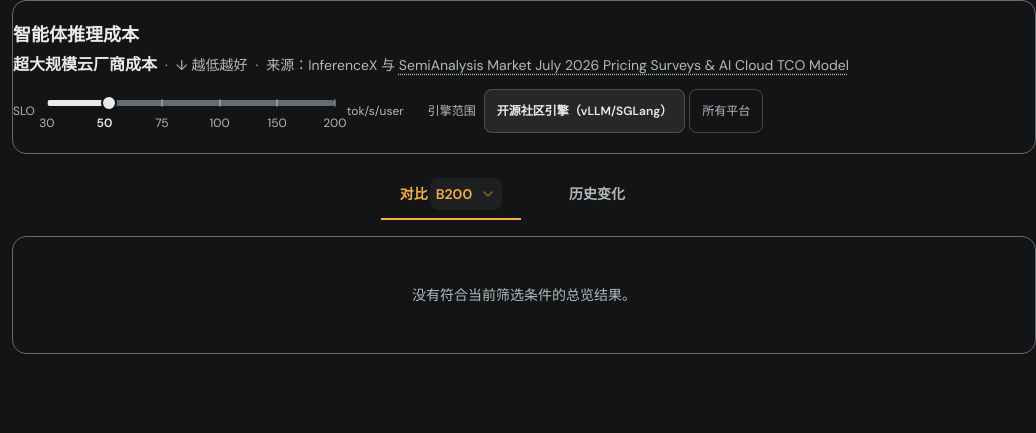
Scenario: OverviewPageContent failure states › renders a localized recoverable navigation alert for zh
The width and height of the screenshot is (1036, 433).
Click the link "所有平台" at (726, 111), box [689,89,763,133]
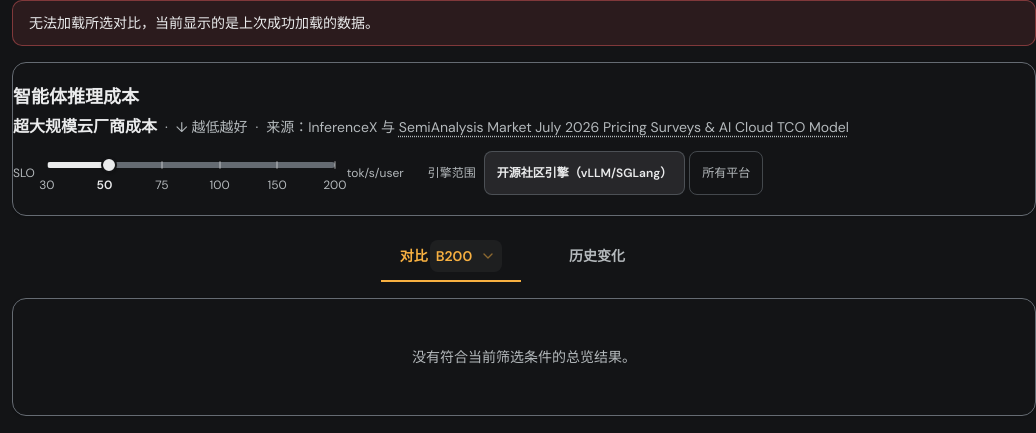
Now the message "无法加载所选对比，当前显示的是上次成功加载的数据。" is shown, box [12,0,1035,46]
